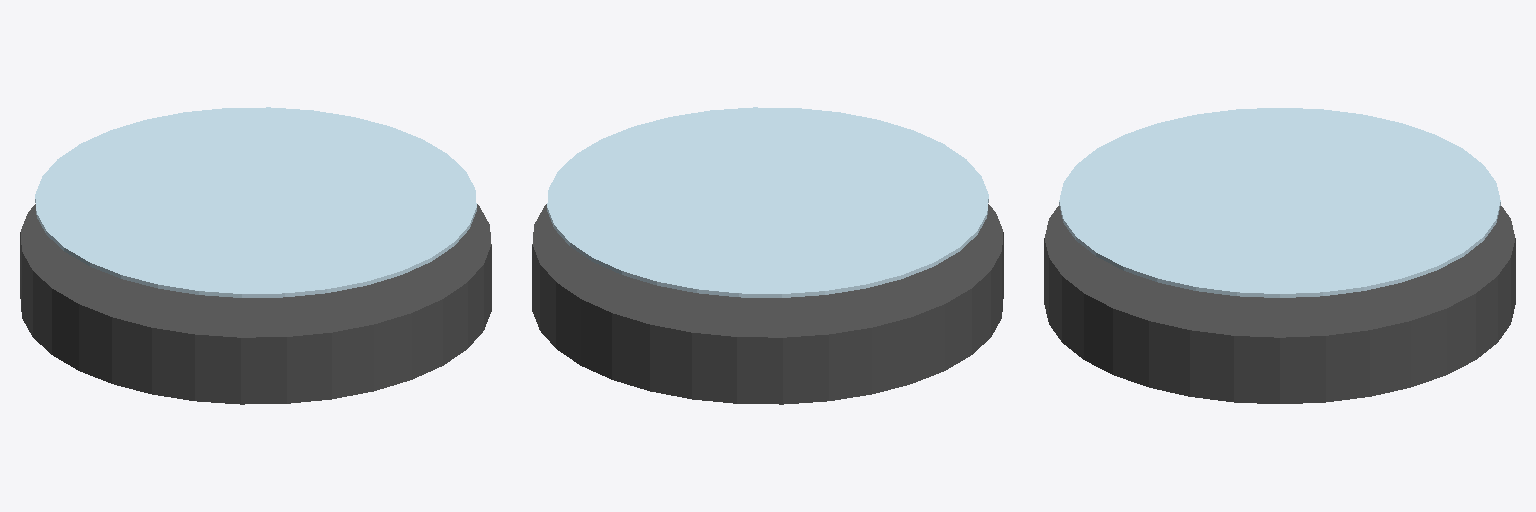
The robot description file, URDF, robot "adrs_turntable":
<?xml version="1.0"?>
<robot name="adrs_turntable">
  <link name="base">
    <visual>
      <geometry>
        <cylinder length="0.10" radius="0.32"/>
      </geometry>
      <material name="grey">
        <color rgba="0.4 0.4 0.4 1"/>
      </material>
    </visual>
    <collision>
      <geometry>
        <cylinder length="0.10" radius="0.32"/>
      </geometry>
    </collision>
    <inertial>
      <mass value="20"/>
      <inertia ixx="0.5" iyy="0.5" izz="1.0" ixy="0" ixz="0" iyz="0"/>
    </inertial>
  </link>

  <link name="disc">
    <visual>
      <origin xyz="0 0 0.053"/>
      <geometry>
        <cylinder length="0.006" radius="0.30"/>
      </geometry>
      <material name="acrylic">
        <color rgba="0.85 0.95 1.0 0.55"/>
      </material>
    </visual>
    <collision>
      <origin xyz="0 0 0.053"/>
      <geometry>
        <cylinder length="0.006" radius="0.30"/>
      </geometry>
    </collision>
    <inertial>
      <mass value="2.5"/>
      <inertia ixx="0.05" iyy="0.05" izz="0.10" ixy="0" ixz="0" iyz="0"/>
    </inertial>
  </link>

  <joint name="rotary_axis" type="continuous">
    <parent link="base"/>
    <child link="disc"/>
    <axis xyz="0 0 1"/>
    <origin xyz="0 0 0.05"/>
  </joint>
</robot>

--- What the picture shows (computed from the rendered views, not written in the file) ---
3 views of the same robot in one strip: view 1: azimuth 30°, elevation 25°; view 2: azimuth 150°, elevation 25°; view 3: azimuth 270°, elevation 25° (orthographic).
Model adrs_turntable with 2 links and 1 joints (1 continuous), rooted at base, posed every joint at zero.
Links seen in each view (by area): view 1: disc, base; view 2: disc, base; view 3: disc, base.
Link boxes in pixels (x1=…): disc: x1=35, y1=107, x2=476, y2=297; base: x1=20, y1=204, x2=491, y2=404; disc: x1=547, y1=107, x2=988, y2=297; base: x1=532, y1=204, x2=1003, y2=404; disc: x1=1059, y1=108, x2=1500, y2=297; base: x1=1044, y1=206, x2=1515, y2=403.
Size in the robot's own frame: 0.64 by 0.64 by 0.156 metres.
Geometry: primitives only (box / cylinder / sphere), no mesh files.
